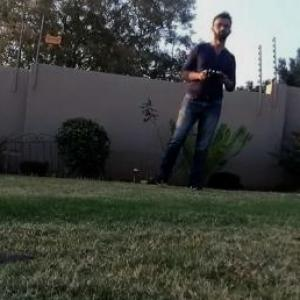follow: (150, 7, 238, 194)
